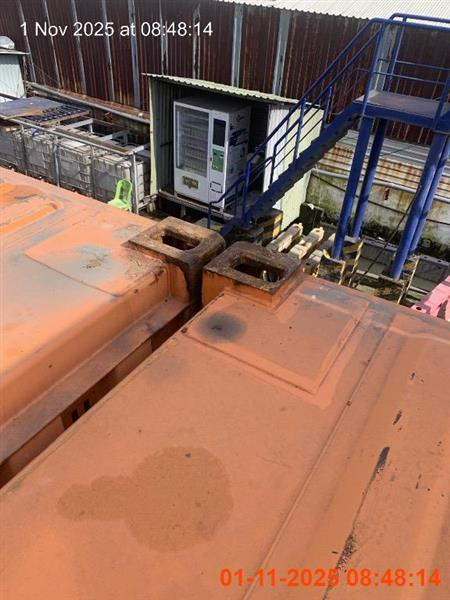broken: (0, 167, 449, 598)
